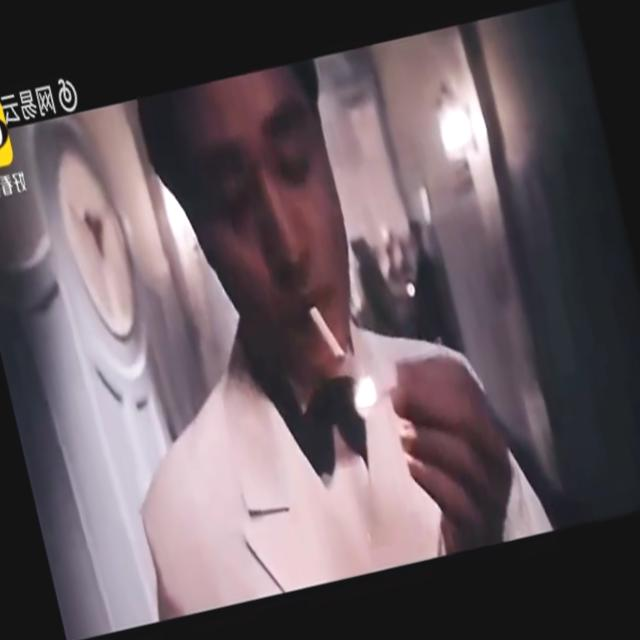smoke: (299, 297, 352, 382)
